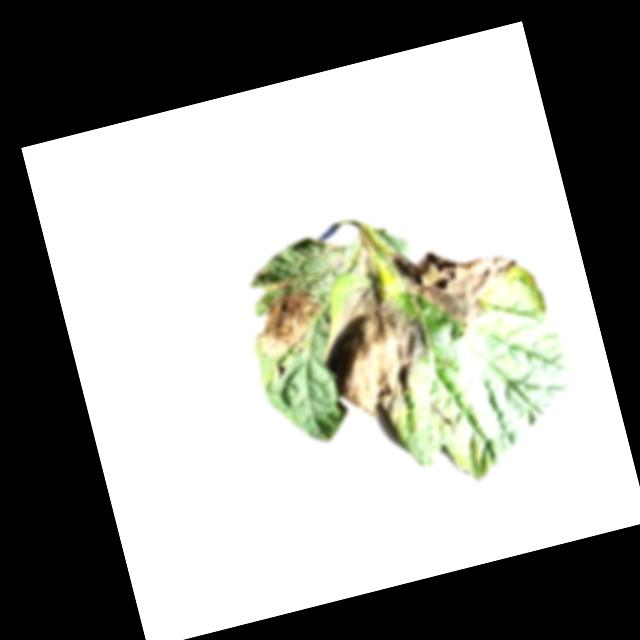Late_blight: (308, 273, 445, 435), (389, 225, 529, 342), (247, 284, 334, 363), (352, 240, 378, 277), (268, 277, 299, 295)
